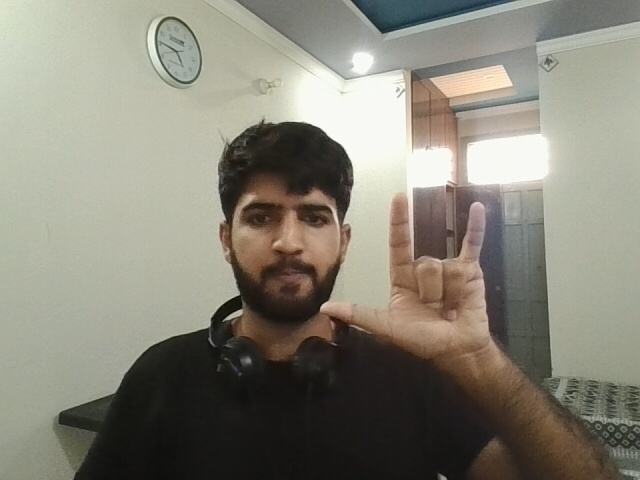I Love You: (321, 188, 507, 369)
